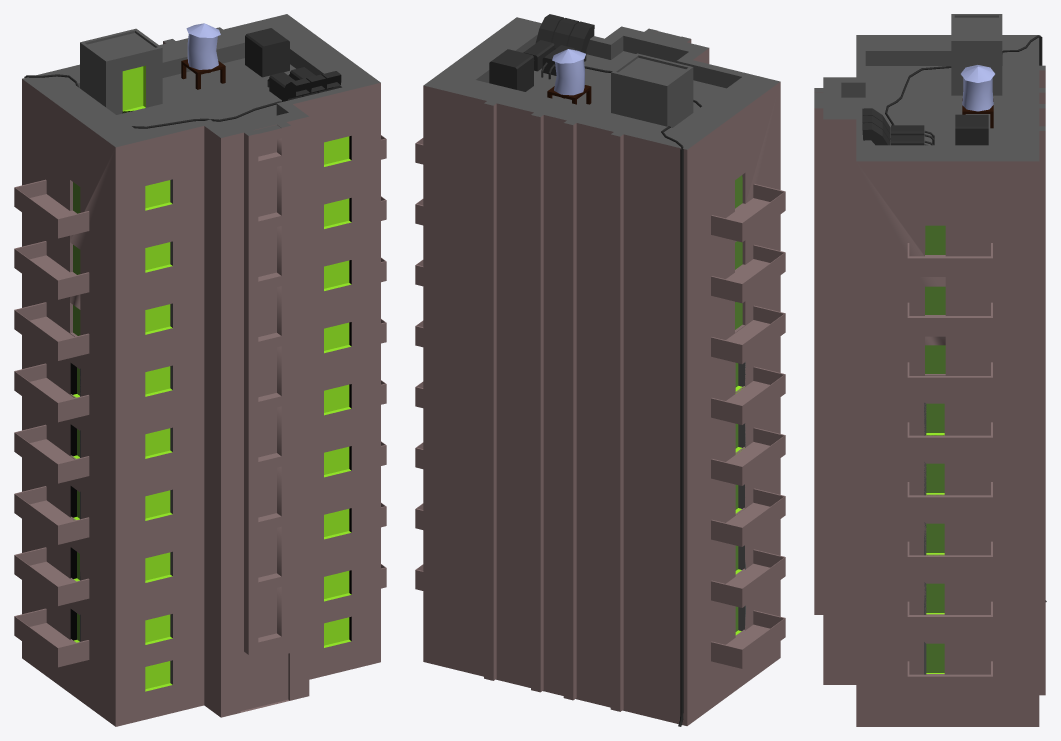
File: Leilighet.FBX
3 renders of one model, left to right at view 1: azimuth 30°, elevation 25°; view 2: azimuth 150°, elevation 25°; view 3: azimuth 270°, elevation 25°, orthographic. The views are drawn at different scales.
Visible parts, largest first — view 1: Leilighet, Box060, Box073, Rooff, Cylinder01, Cylinder016; view 2: Leilighet, Box060, Box073, Rooff, Cylinder016, Cylinder01; view 3: Leilighet, Box060, Box073, Rooff, Cylinder01, Cylinder016.
Boxes of the visible parts, bbox=[...] form: Leilighet: bbox=[22, 14, 380, 726]; Box060: bbox=[14, 135, 386, 667]; Box073: bbox=[80, 28, 162, 114]; Rooff: bbox=[245, 28, 341, 101]; Cylinder01: bbox=[181, 23, 225, 89]; Cylinder016: bbox=[24, 74, 281, 128]; Leilighet: bbox=[423, 17, 780, 725]; Box060: bbox=[415, 138, 785, 668]; Box073: bbox=[611, 53, 693, 127]; Rooff: bbox=[489, 14, 594, 91]; Cylinder016: bbox=[584, 66, 701, 726]; Cylinder01: bbox=[547, 49, 591, 104]; Leilighet: bbox=[814, 35, 1045, 726]; Box060: bbox=[907, 243, 992, 695]; Box073: bbox=[951, 14, 1002, 95]; Rooff: bbox=[862, 108, 988, 145]; Cylinder01: bbox=[961, 65, 994, 128]; Cylinder016: bbox=[885, 35, 1046, 601].
Bounding box in the file's own units: 2262 × 4083 × 1420.
